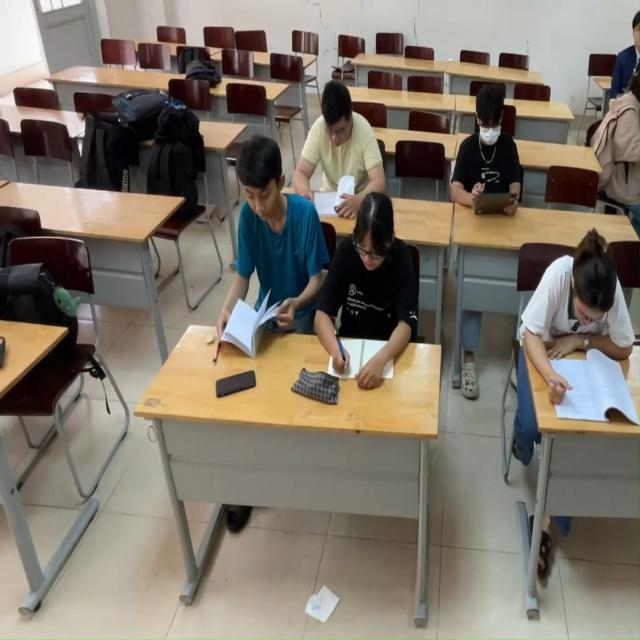read: (519, 217, 640, 434), (214, 132, 324, 365), (313, 189, 426, 406), (447, 75, 533, 241)
